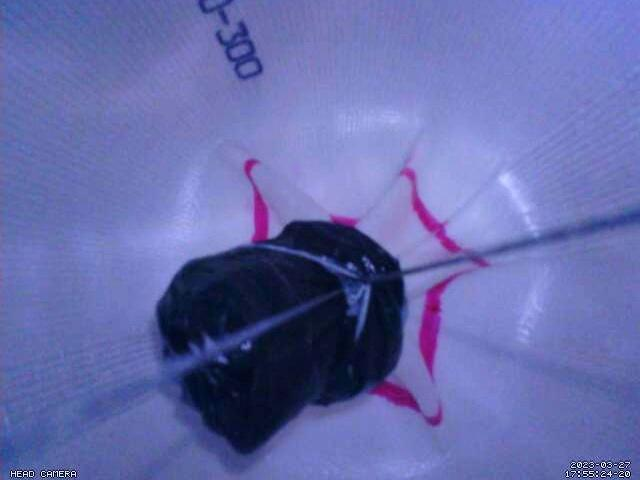red-circle: (244, 157, 490, 427)
